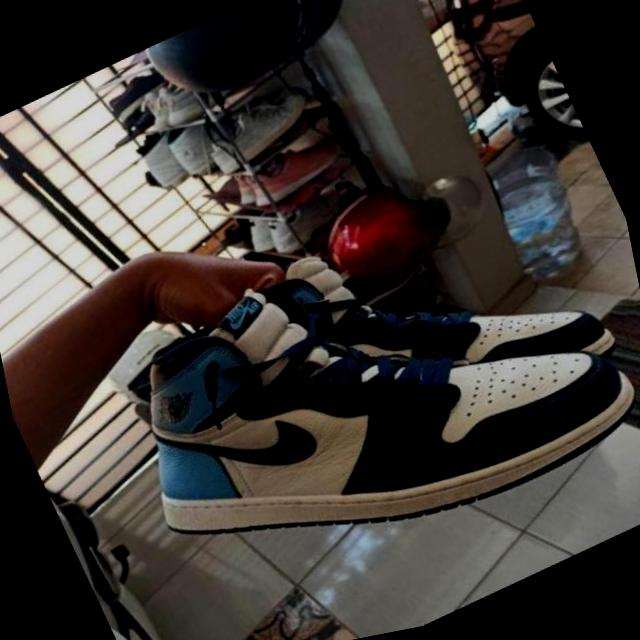nike_original_jordan: (63, 143, 640, 640), (204, 139, 640, 508)
